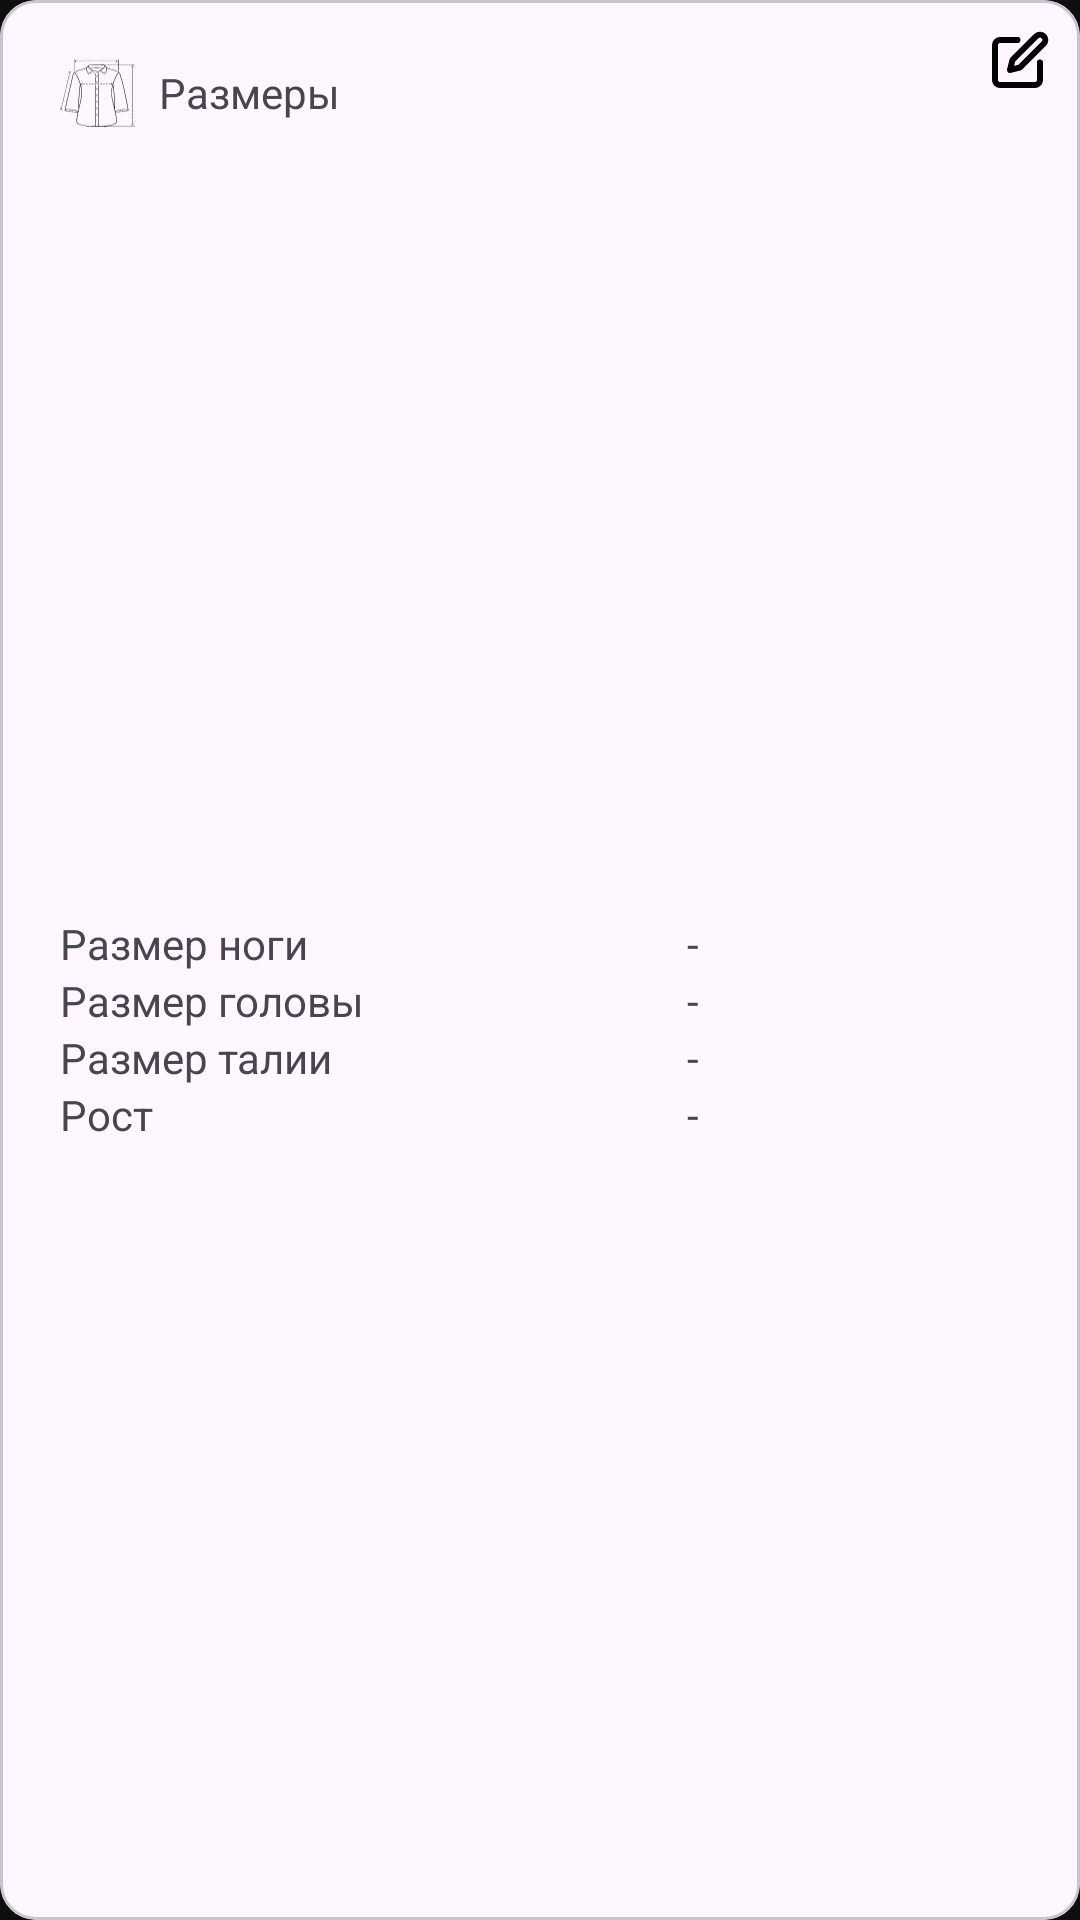

Named icons in this screenshot (1080 x 1920) and their bounding boxes, (x1,y1,x2,y2):
edit: (992,31,1049,88)
size chart: (60,59,135,127)
